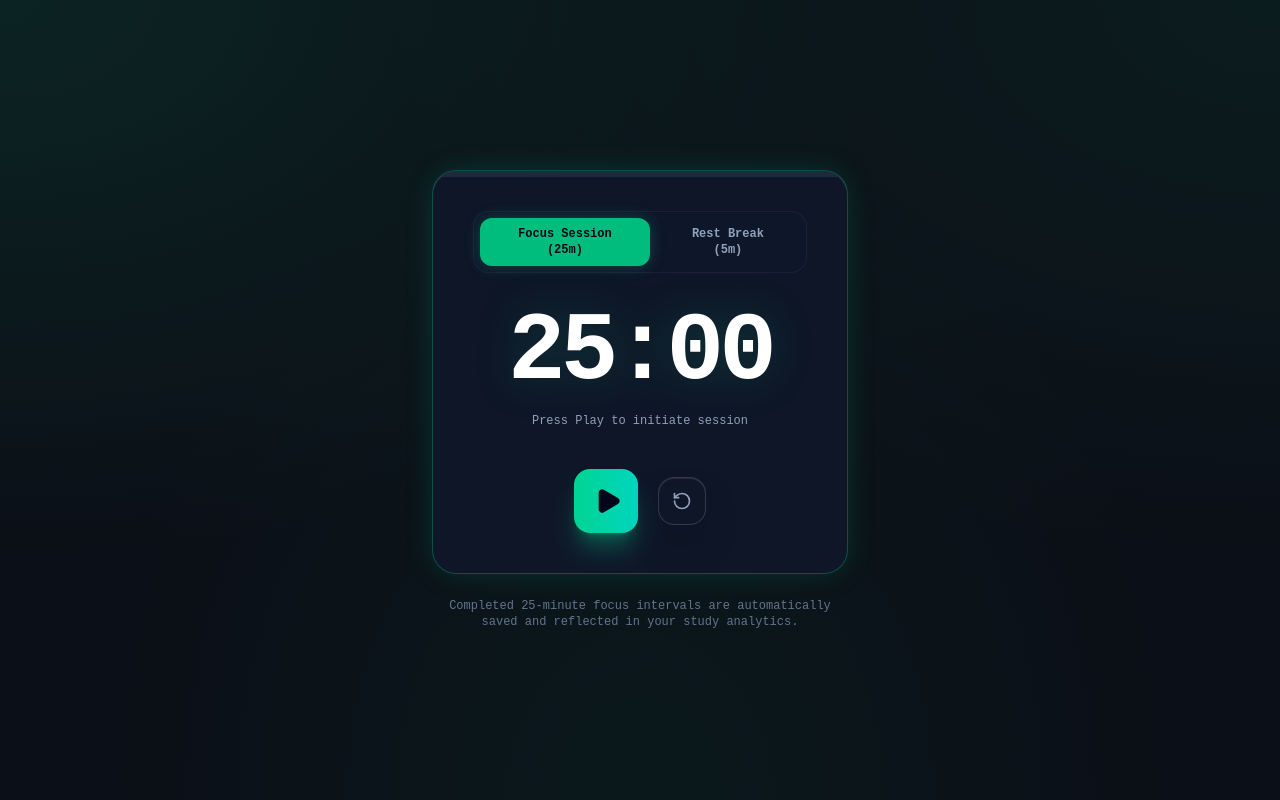
Test: API client pilot callers › records Timer completion with optional Bearer auth and preserves the success message
Click the 3rd button at (606, 501), box [574,469,638,533]
Wait 500 ms
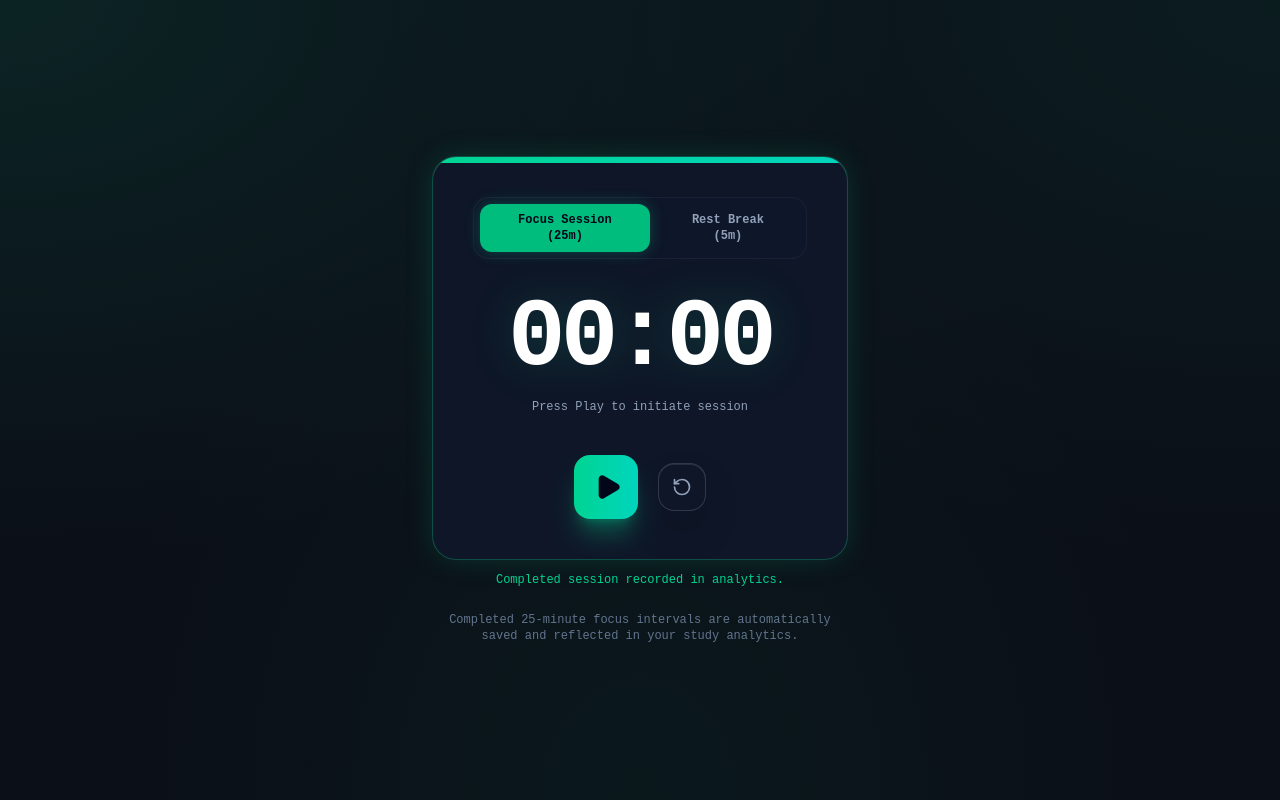
Expected: the text "Completed session recorded in analytics." is shown, [496,573,784,587]
